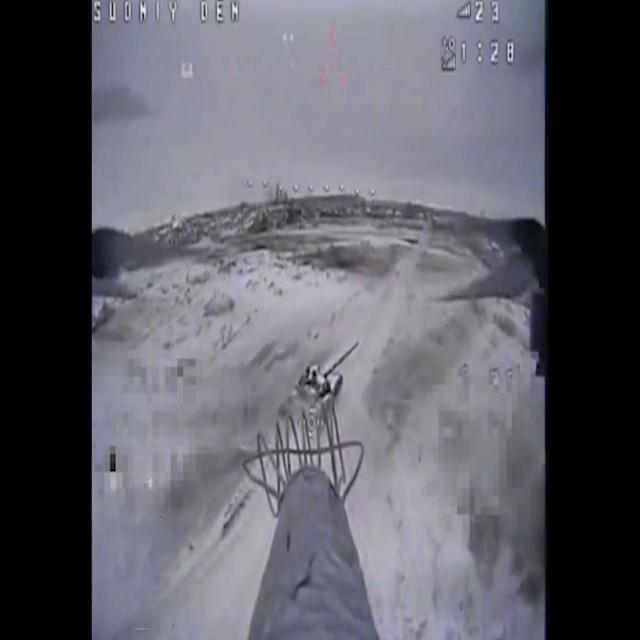MBT: (288, 341, 362, 427)
